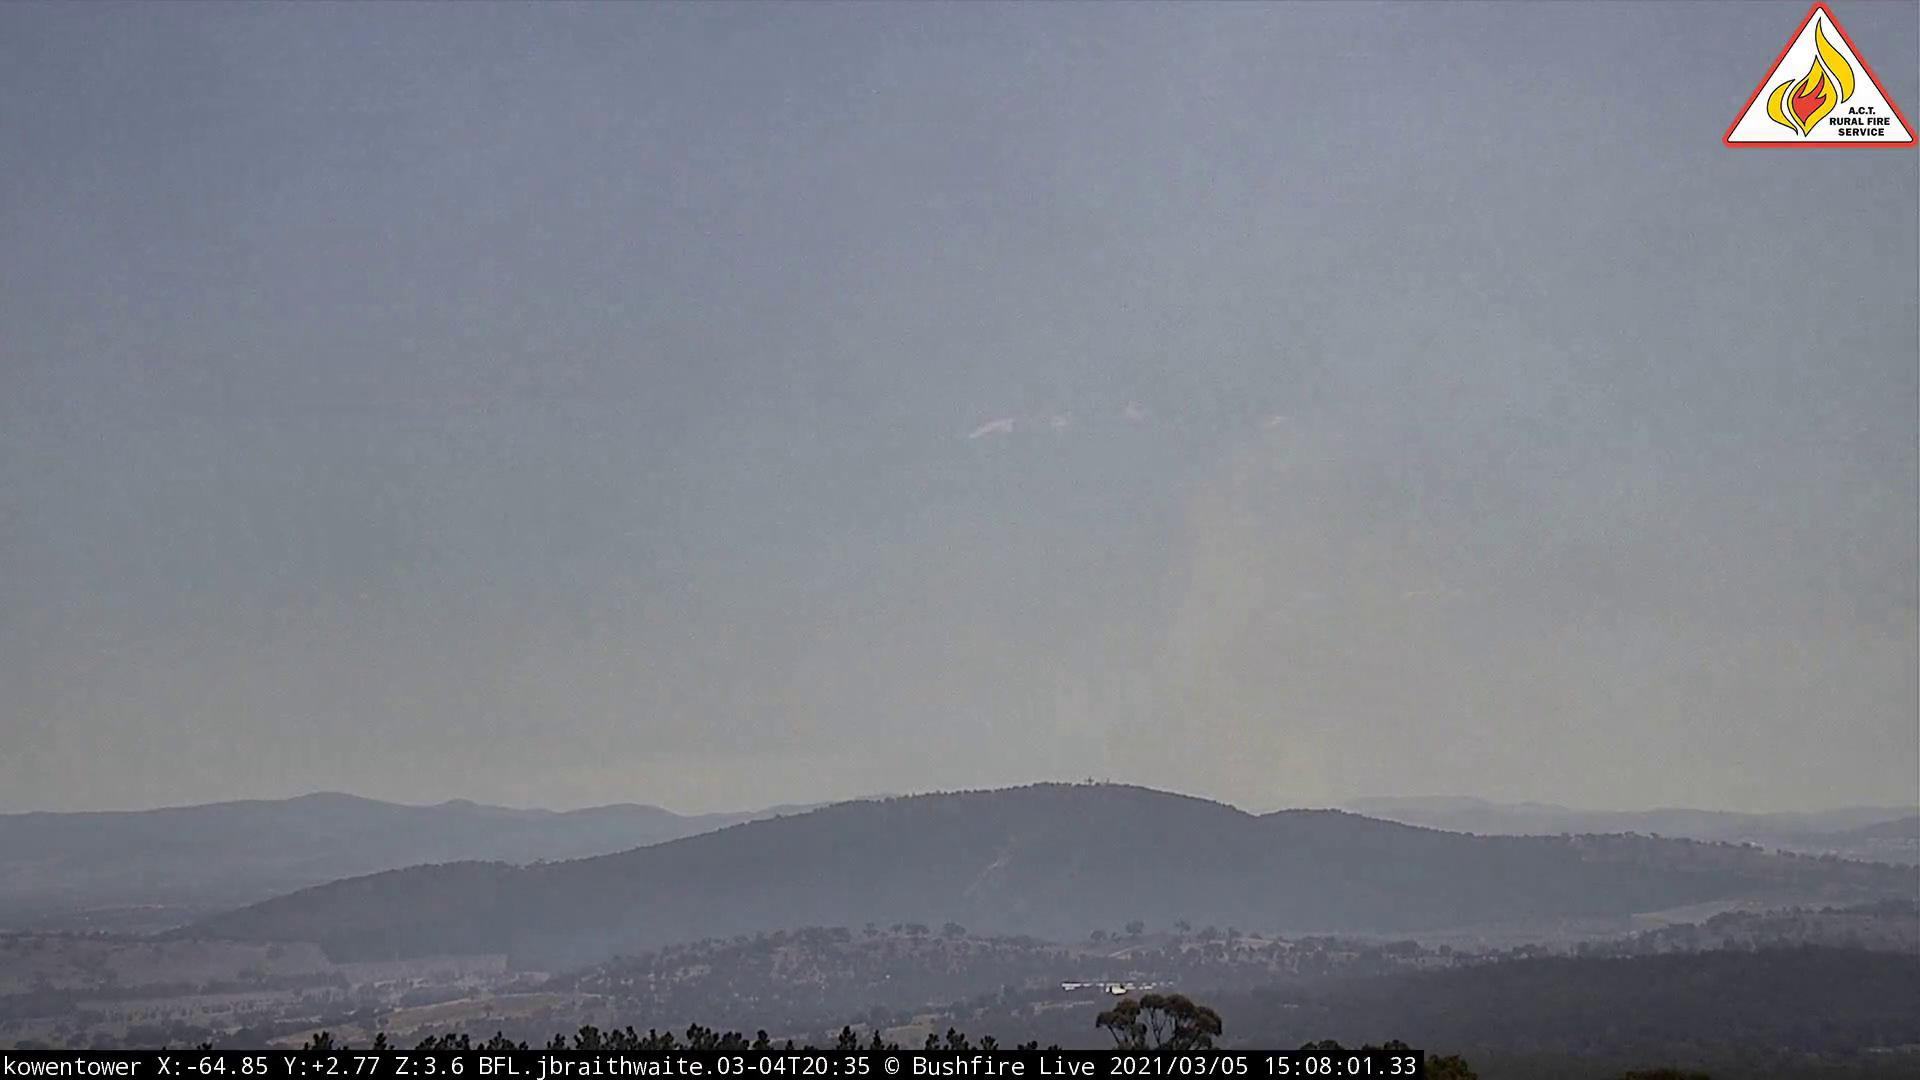instance_salient_object: (1004, 429, 1576, 853)
